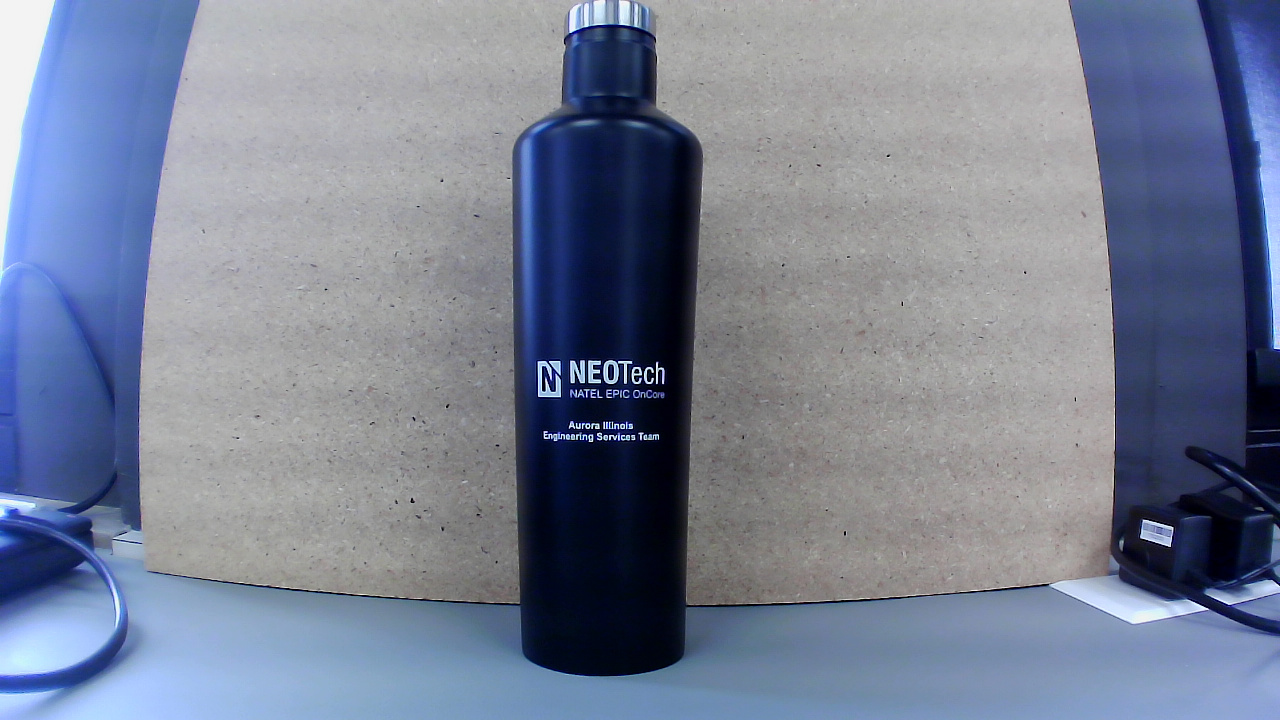neobottle: (507, 1, 707, 682)
